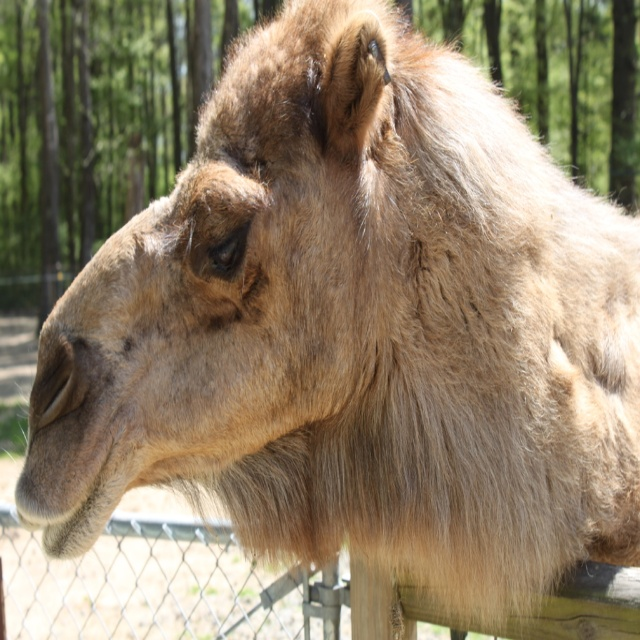Camel: (16, 0, 639, 633)
